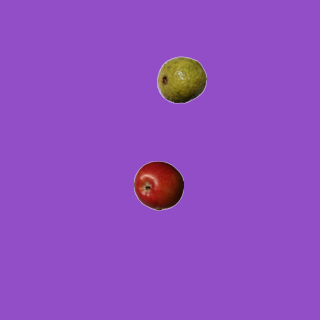Apple Braeburn: (133, 160, 183, 210)
Guava: (156, 54, 206, 104)
